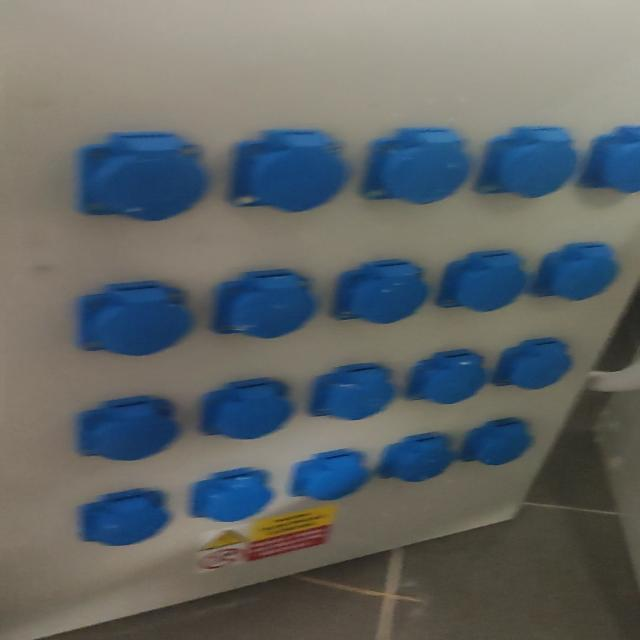house plug covered: (75, 132, 209, 224), (225, 131, 348, 215), (73, 281, 190, 356), (360, 127, 469, 206), (477, 126, 576, 199), (212, 273, 313, 341), (75, 395, 177, 461), (201, 377, 292, 439), (335, 262, 424, 324), (77, 488, 169, 546), (436, 253, 523, 310), (537, 243, 617, 301), (492, 337, 573, 393), (311, 367, 393, 422), (189, 471, 273, 522), (580, 125, 640, 196), (411, 349, 485, 404), (291, 448, 369, 500), (375, 434, 452, 482), (464, 417, 530, 465)
